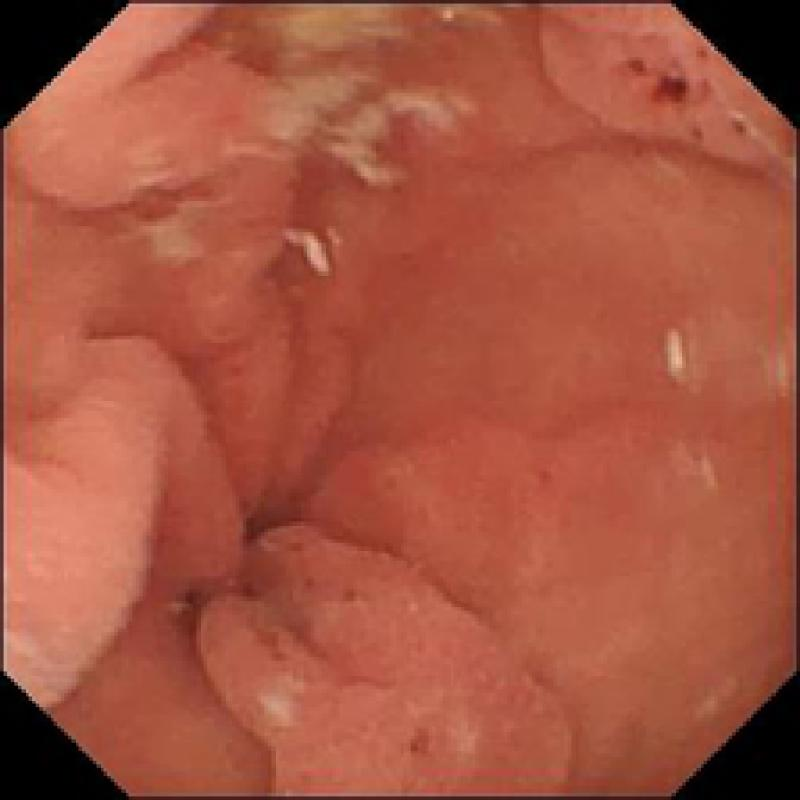bleeding: (618, 47, 750, 132)
